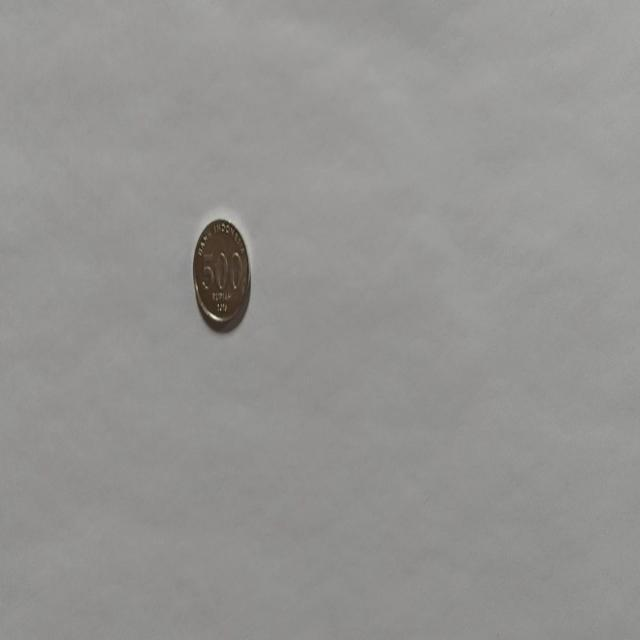lima ratus rupiah: (191, 215, 251, 332)
